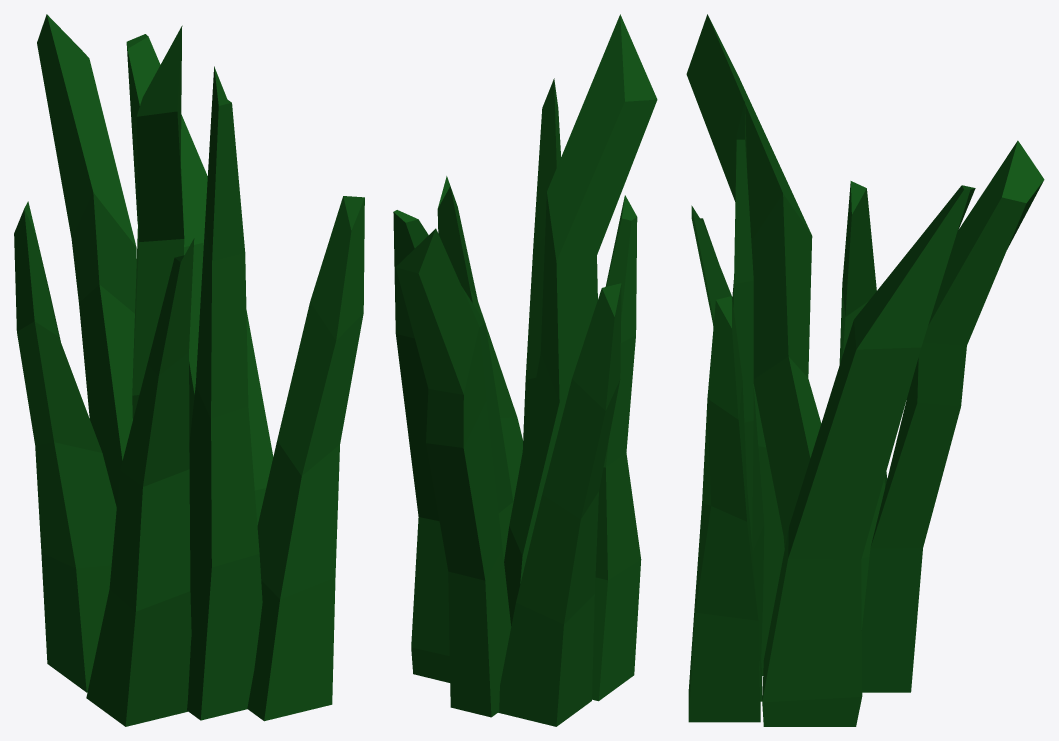
Rendered from Grass 2.fbx.
The picture shows the model from 3 angles, left to right: view 1: azimuth 30°, elevation 25°; view 2: azimuth 150°, elevation 25°; view 3: azimuth 270°, elevation 25°; orthographic projection. The views are drawn at different scales.
Parts seen in each view (by area): view 1: Cubo.003, Cubo.004, Cubo.001, Cubo.002, Cubo.005, Cubo.006, Cubo; view 2: Cubo.005, Cubo.002, Cubo.006, Cubo, Cubo.001, Cubo.004, Cubo.003; view 3: Cubo, Cubo.005, Cubo.006, Cubo.003, Cubo.004, Cubo.001, Cubo.002.
Boxes of the visible parts, x1,y1,x2,y2 form: Cubo.003: [247, 196, 364, 721]; Cubo.004: [187, 66, 262, 720]; Cubo.001: [86, 238, 194, 726]; Cubo.002: [14, 201, 116, 692]; Cubo.005: [37, 14, 136, 507]; Cubo.006: [132, 25, 184, 419]; Cubo: [126, 34, 273, 525]; Cubo.005: [395, 228, 511, 717]; Cubo.002: [498, 283, 621, 726]; Cubo.006: [504, 14, 657, 625]; Cubo: [393, 210, 513, 682]; Cubo.001: [592, 195, 641, 701]; Cubo.004: [522, 78, 560, 450]; Cubo.003: [437, 176, 522, 501]; Cubo: [762, 185, 975, 726]; Cubo.005: [861, 140, 1044, 692]; Cubo.006: [686, 14, 821, 548]; Cubo.003: [688, 296, 760, 722]; Cubo.004: [732, 101, 764, 701]; Cubo.001: [691, 205, 784, 675]; Cubo.002: [839, 181, 887, 629].
Bounding box in the file's own units: 31.12 × 78.07 × 39.12.
